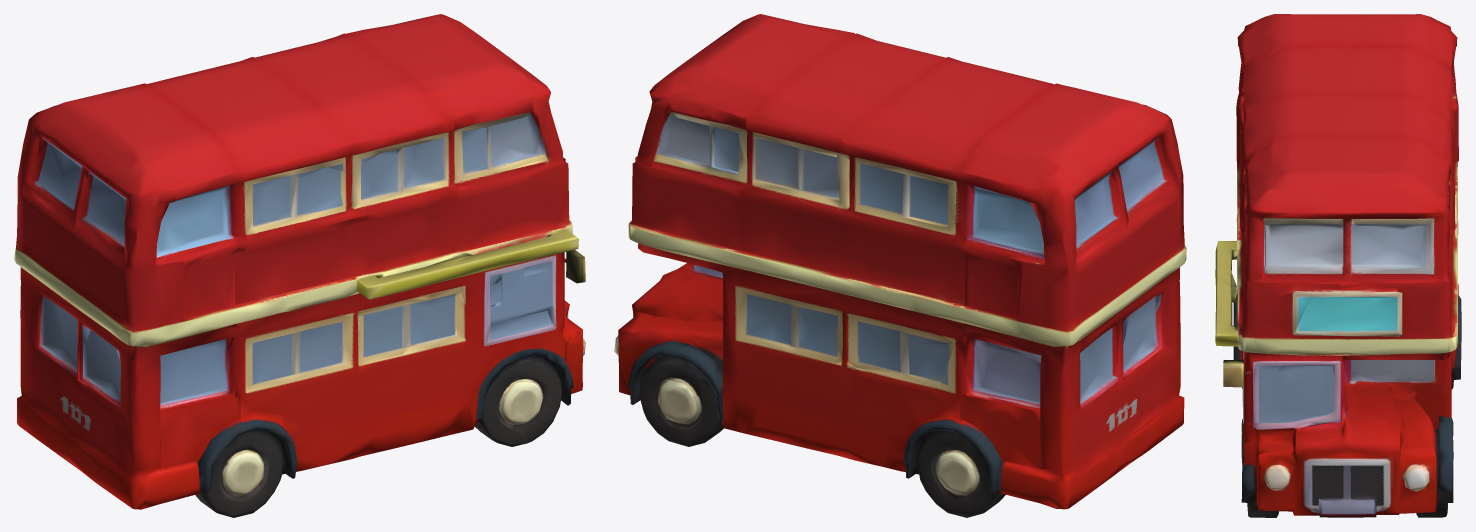
Rendered from bus_78.glb.
3 renders of one model, left to right at view 1: azimuth 30°, elevation 25°; view 2: azimuth 150°, elevation 25°; view 3: azimuth 270°, elevation 25°, orthographic. The views are drawn at different scales.
Parts seen in each view (by area): view 1: tripo_node_04b36f01-d191-4384-9751-924cc669562c; view 2: tripo_node_04b36f01-d191-4384-9751-924cc669562c; view 3: tripo_node_04b36f01-d191-4384-9751-924cc669562c.
Boxes of the visible parts, box(x1,y1,x2,y2) form: tripo_node_04b36f01-d191-4384-9751-924cc669562c: box(14, 14, 585, 517); tripo_node_04b36f01-d191-4384-9751-924cc669562c: box(614, 14, 1186, 517); tripo_node_04b36f01-d191-4384-9751-924cc669562c: box(1215, 14, 1461, 517).
Size of the model in its own units: 1 by 0.7371 by 0.4846.
Materials: 1 (1 with a texture image).
